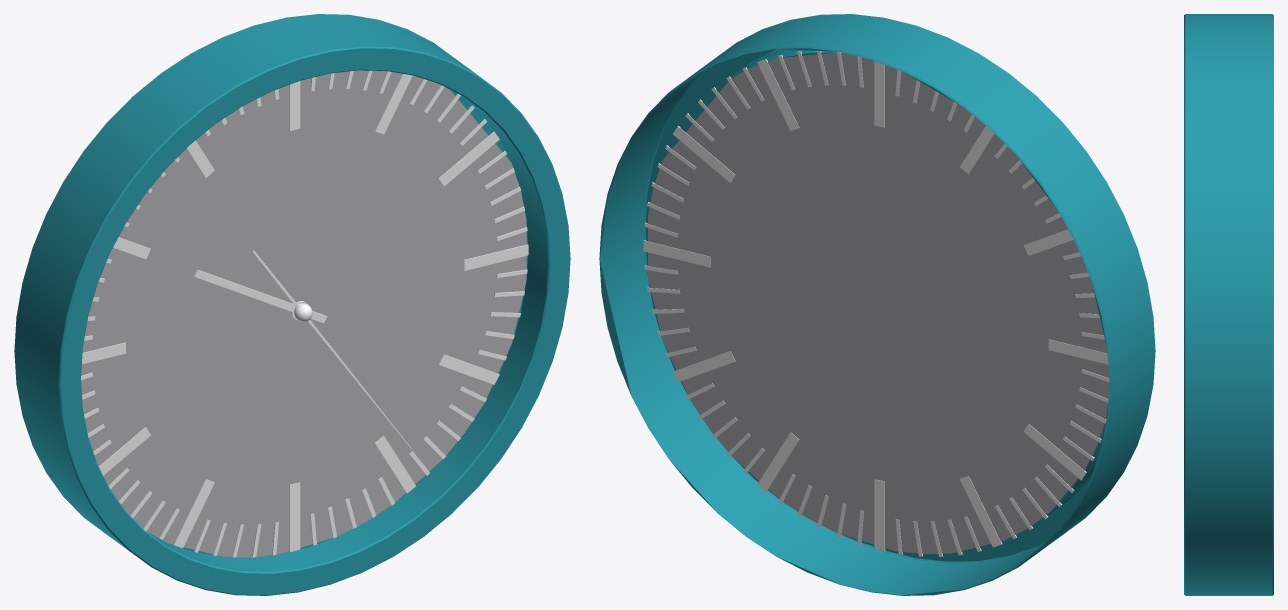
Rendered from reloj.obj.
3 renders of one model, left to right at view 1: azimuth 30°, elevation 25°; view 2: azimuth 150°, elevation 25°; view 3: azimuth 270°, elevation 25°, orthographic.
Visible parts, largest first — view 1: polySurface186; view 2: polySurface186; view 3: polySurface186.
Part boxes in pixels (x1=…): polySurface186: x1=14, y1=14, x2=570, y2=595; polySurface186: x1=599, y1=14, x2=1155, y2=595; polySurface186: x1=1184, y1=14, x2=1273, y2=595.
Size of the model in its own units: 1.4 by 1.39 by 0.2158.
3 materials, 3 textured.
